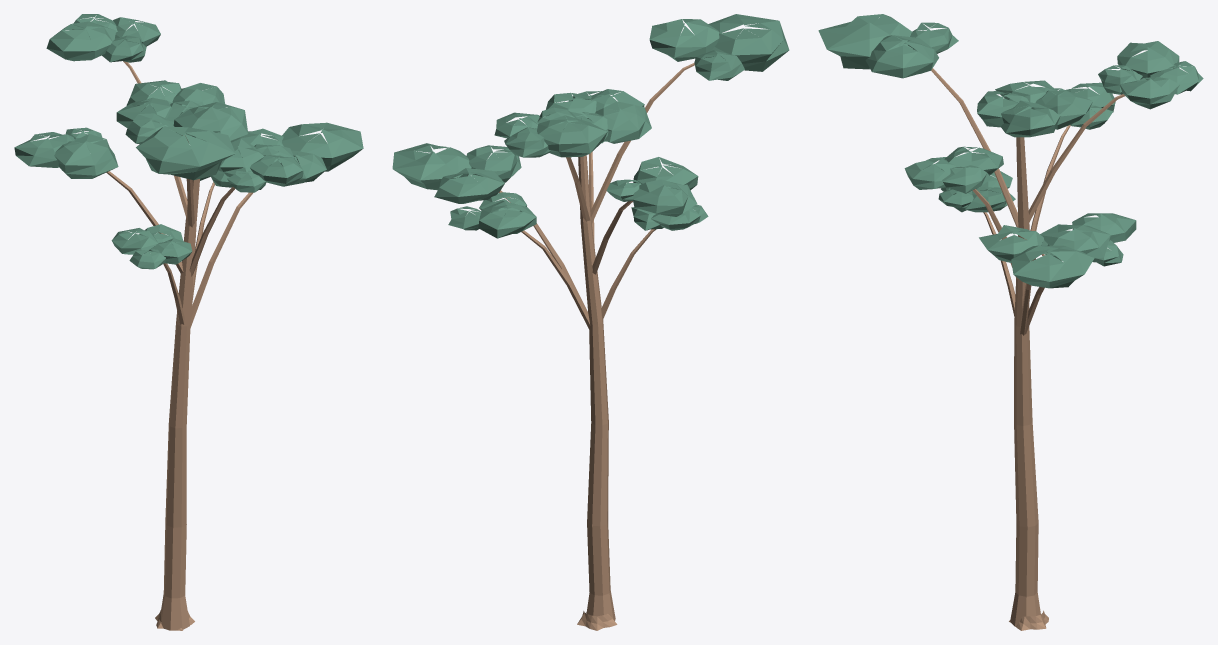
File: temperate-forest-ecology-scots-pine-mature-818bd1b5.glb
3 renders of one model, left to right at view 1: azimuth 30°, elevation 25°; view 2: azimuth 150°, elevation 25°; view 3: azimuth 270°, elevation 25°, orthographic.
Visible parts, largest first — view 1: scots-pine-mature; view 2: scots-pine-mature; view 3: scots-pine-mature.
Part boxes in pixels (x1=…): scots-pine-mature: x1=14, y1=14, x2=363, y2=630; scots-pine-mature: x1=392, y1=14, x2=789, y2=630; scots-pine-mature: x1=818, y1=14, x2=1203, y2=630.
Bounding box in the file's own units: 11.42 × 19.41 × 11.9.
